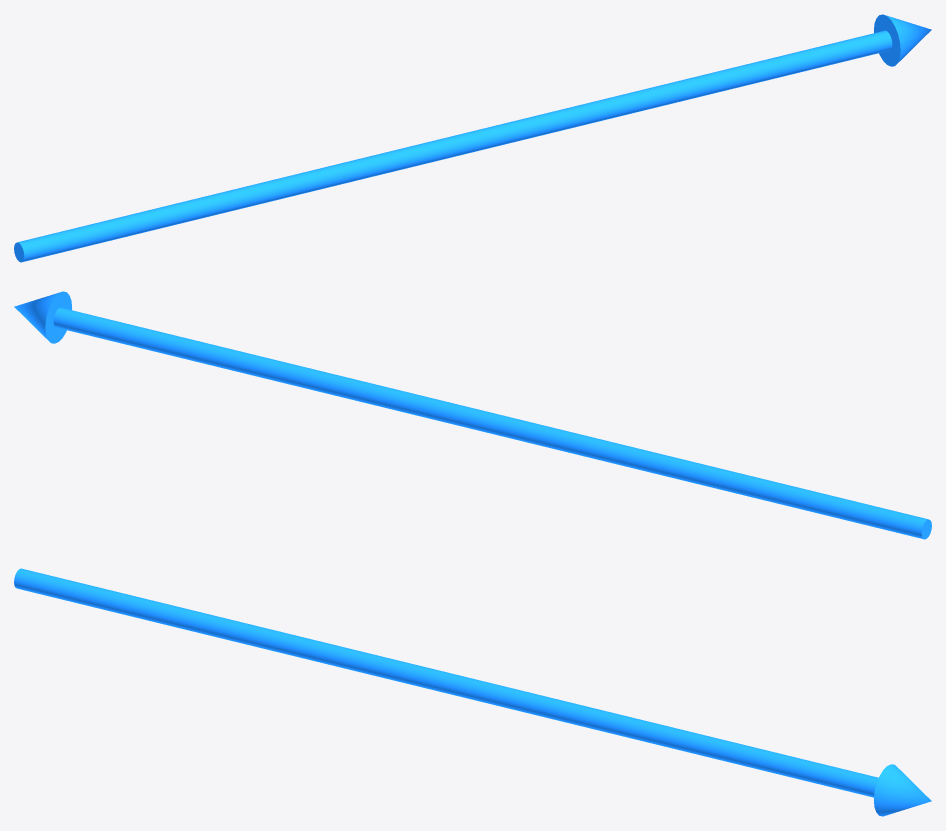
The model's file is pinch_valve_flow.glb.
3 renders of one model, top to bottom at view 1: azimuth 30°, elevation 25°; view 2: azimuth 150°, elevation 25°; view 3: azimuth 330°, elevation 25°, orthographic.
Visible parts, largest first — view 1: flow; view 2: flow; view 3: flow.
Boxes of the visible parts, box(x1,y1,x2,y2) form: flow: box(14, 14, 931, 262); flow: box(14, 291, 931, 539); flow: box(14, 568, 931, 816).
Bounding box in the file's own units: 1.22 × 0.0624 × 0.0624.
